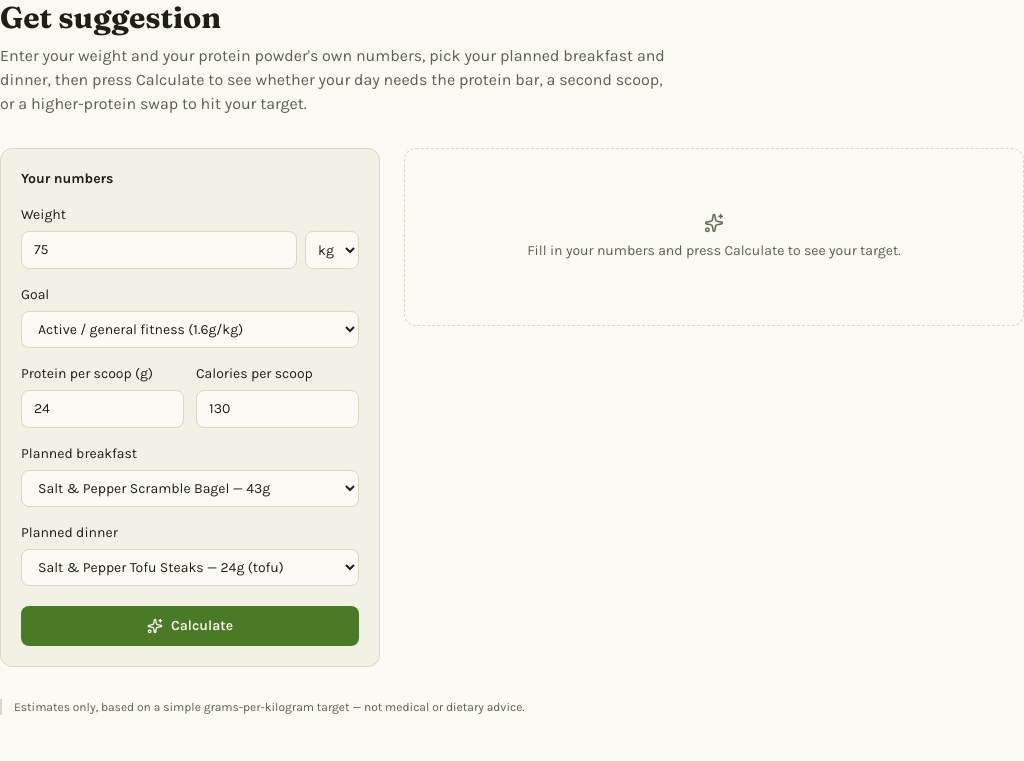
Suggestion › updates the result after pressing Calculate again
This screenshot has width=1024, height=761.
Click the button "Calculate".
click(190, 626)  # box [21,606,359,646]
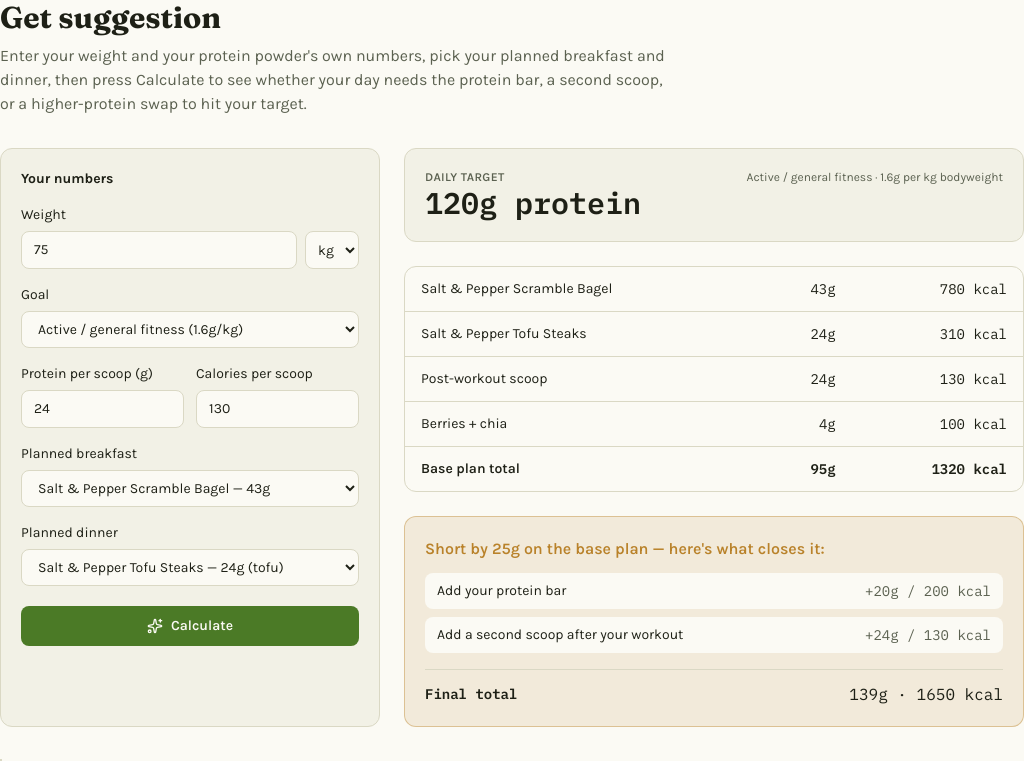
Replace the text in the number field showing "75" with "100" at (159, 250), box [21,231,297,269]
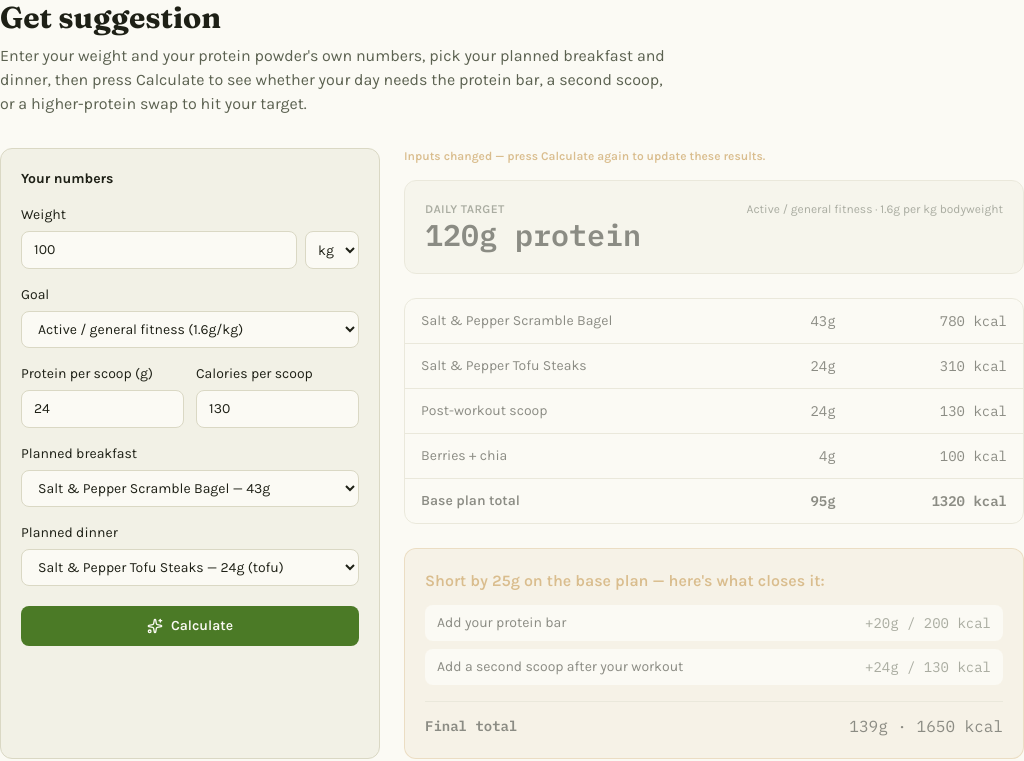
Click the button "Calculate".
click(190, 626)  # box [21,606,359,646]
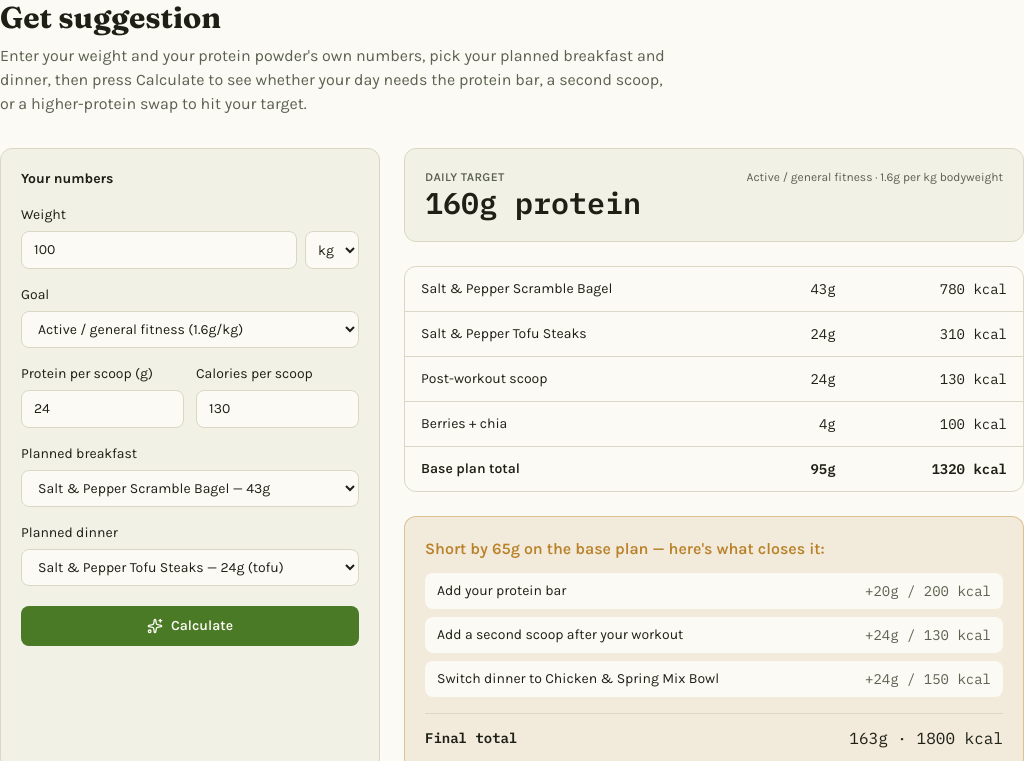
Result: the text "160g protein" is shown at [425,185,641,221]
Result: the text "Inputs changed" is gone
